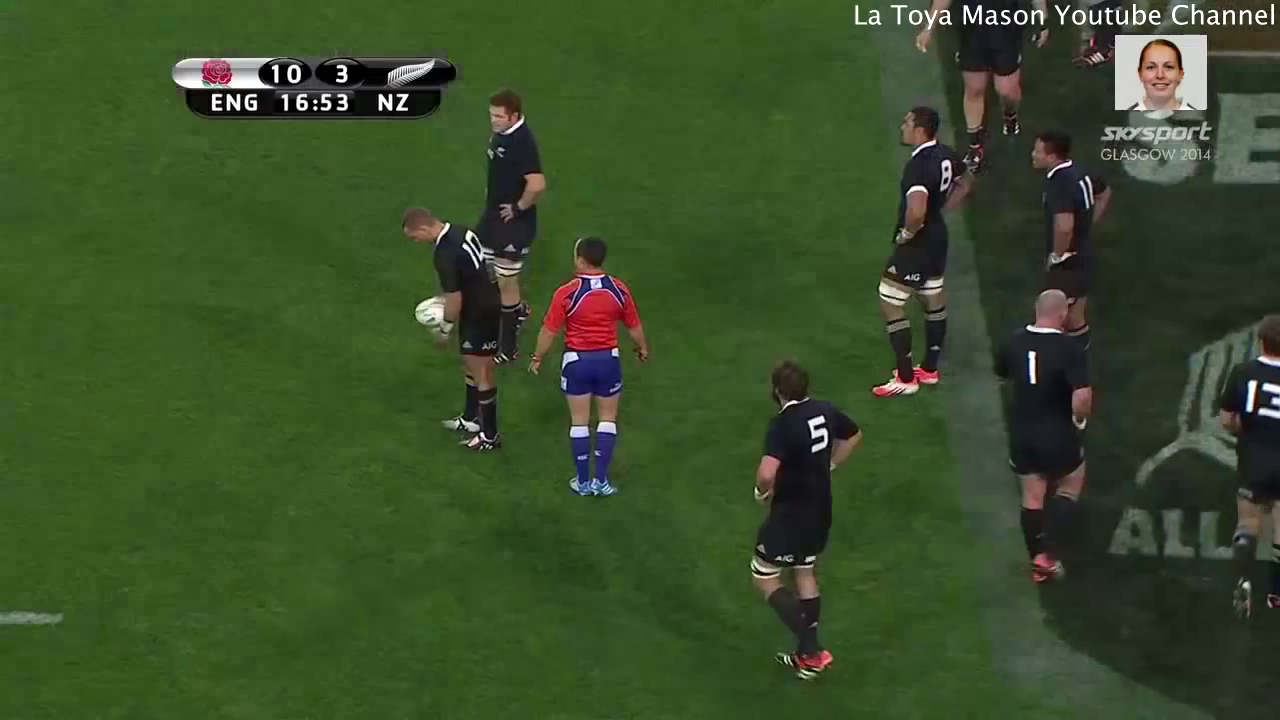ball: (403, 273, 470, 347)
player: (727, 356, 867, 685), (520, 221, 666, 515), (378, 191, 531, 463), (977, 285, 1098, 596), (869, 93, 958, 400), (1196, 310, 1280, 624), (919, 1, 1060, 170), (1014, 129, 1124, 312), (460, 88, 548, 314)
